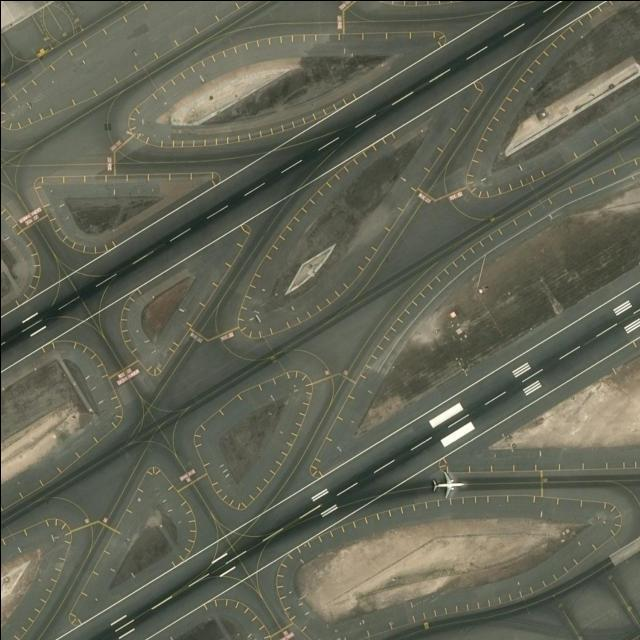Aircraft: (432, 467, 467, 499)
